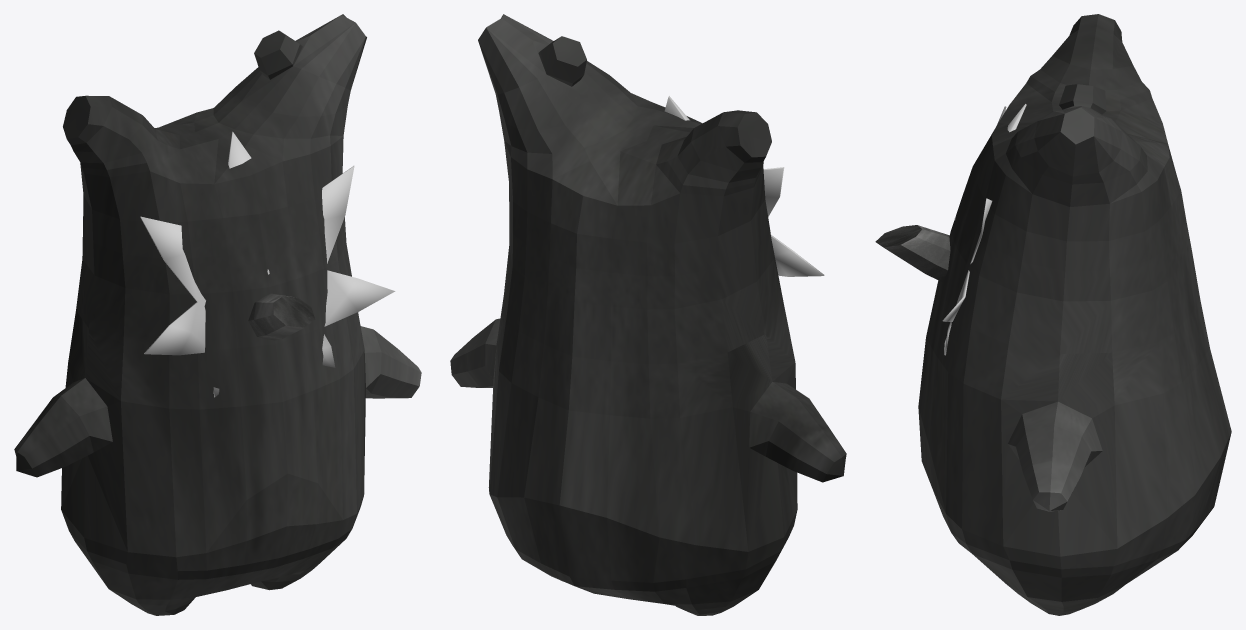
Rendered from frame_0154.obj.
3 views of the same model, side by side, from view 1: azimuth 30°, elevation 25°; view 2: azimuth 150°, elevation 25°; view 3: azimuth 270°, elevation 25° (orthographic). The views are drawn at different scales.
Parts seen in each view (by area): view 1: korok, leaf.003_柱体.013, nose.003_柱体.011; view 2: korok, leaf.003_柱体.013; view 3: korok, nose.003_柱体.011, leaf.003_柱体.013.
Boxes of the visible parts, x1,y1,x2,y2 form: korok: (14, 14, 421, 615); leaf.003_柱体.013: (140, 131, 395, 397); nose.003_柱体.011: (248, 293, 315, 340); korok: (450, 14, 846, 615); leaf.003_柱体.013: (664, 96, 824, 276); korok: (918, 14, 1231, 615); nose.003_柱体.011: (875, 225, 950, 282); leaf.003_柱体.013: (942, 104, 1026, 355).
Bounding box in the file's own units: 1.68 × 2.23 × 1.33.
